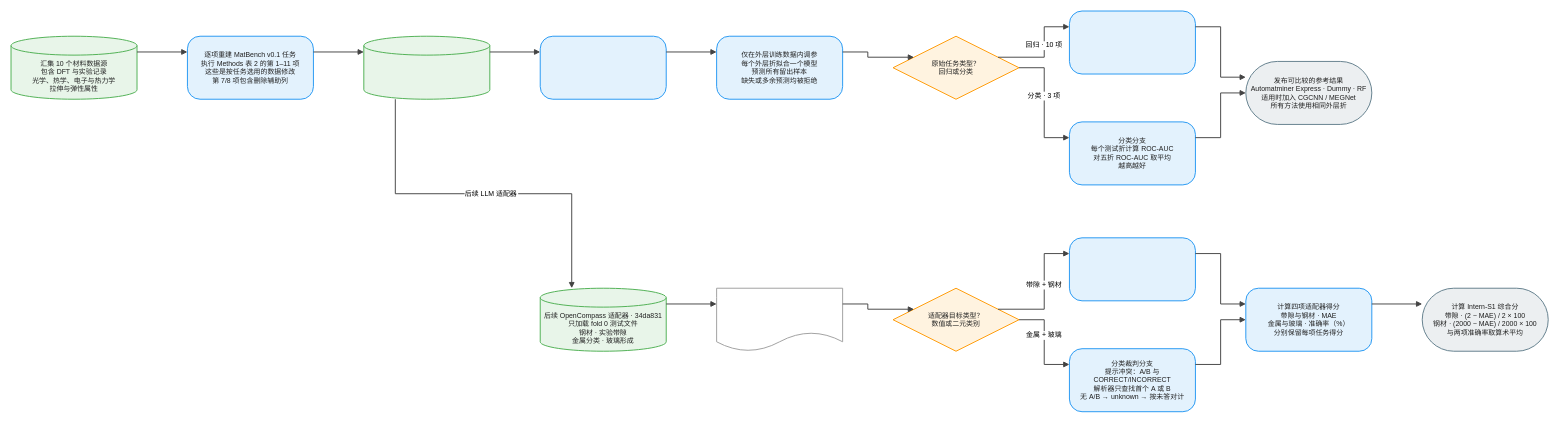
Some shapes in this 1560 by 423 pixel diagram are drawn without their labels. The centre of each missing label's shape, as x and y in pixels:
"回归分支 每个测试折计算 MAE 对五折 MAE 取平均 越低越好" belongs at point 1132,42.
"固定 13 项监督任务 10 项回归 · 3 项分类 输入为成分或晶体结构 声子：论文 1,296 · v0.6 为 1,265" belongs at point 426,67.
"固定五个外层测试折 KFold · 随机种子 18012019 分类任务使用 StratifiedKFold 80% 训练/验证 · 20% 测试" belongs at point 602,67.
"执行零样本生成式推理 插入材料问题 收集自由文本模型回答 不复现原始五折嵌套验证" belongs at point 779,319.
"数值裁判分支 裁判须只返回一个浮点数 不完整或无法确定 → 0 正则取首个数字；无数字 → 0" belongs at point 1132,269.
